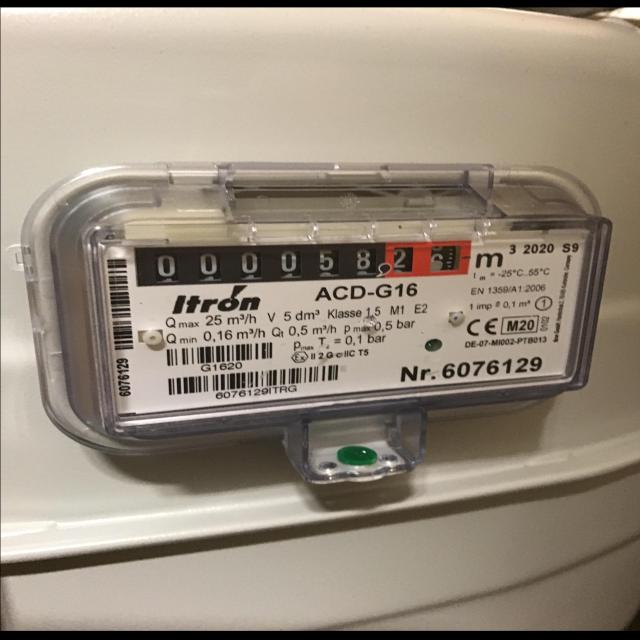gaz_meter: (45, 174, 612, 421)
indication: (135, 240, 470, 288)
